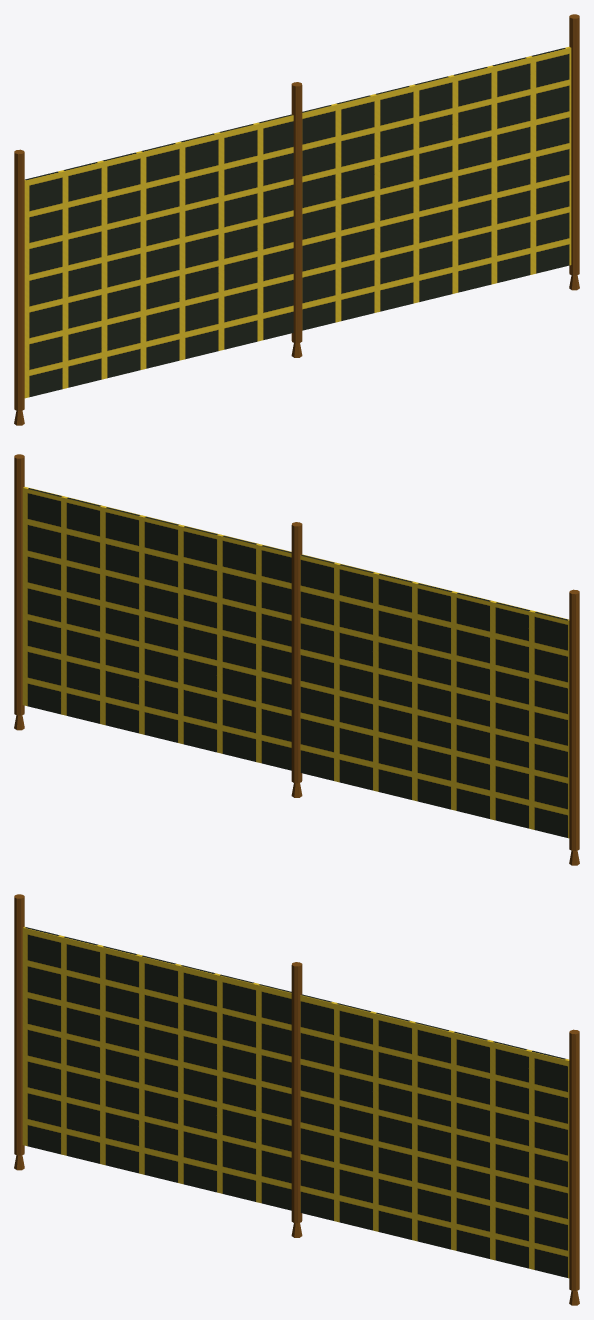
File: safetynet_yellow_3m.dae
3 views of the same model, one above another, from view 1: azimuth 30°, elevation 25°; view 2: azimuth 150°, elevation 25°; view 3: azimuth 330°, elevation 25° (orthographic).
Visible parts, largest first — view 1: netting, stake_0, stake_1, stake_2; view 2: netting, stake_0, stake_1, stake_2; view 3: netting, stake_2, stake_1, stake_0.
Part boxes in pixels (left/top/right/bottom): netting: left=24, top=46, right=571, bottom=398; stake_0: left=14, top=149, right=24, bottom=410; stake_1: left=291, top=82, right=302, bottom=343; stake_2: left=569, top=14, right=579, bottom=275; netting: left=22, top=486, right=569, bottom=838; stake_0: left=569, top=589, right=579, bottom=850; stake_1: left=291, top=522, right=302, bottom=783; stake_2: left=14, top=454, right=24, bottom=715; netting: left=22, top=926, right=569, bottom=1278; stake_2: left=569, top=1029, right=579, bottom=1290; stake_1: left=291, top=962, right=302, bottom=1223; stake_0: left=14, top=894, right=24, bottom=1155.
Size of the model in its own units: 2.99 by 0.05 by 1.37.
2 materials, 2 textured.
